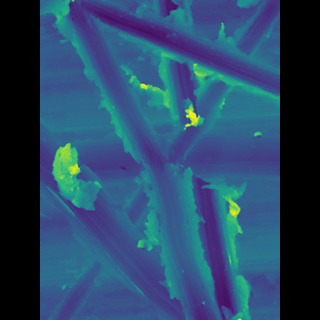Loch: (87, 0, 198, 318), (70, 112, 176, 319), (100, 0, 249, 101), (184, 172, 224, 319)
